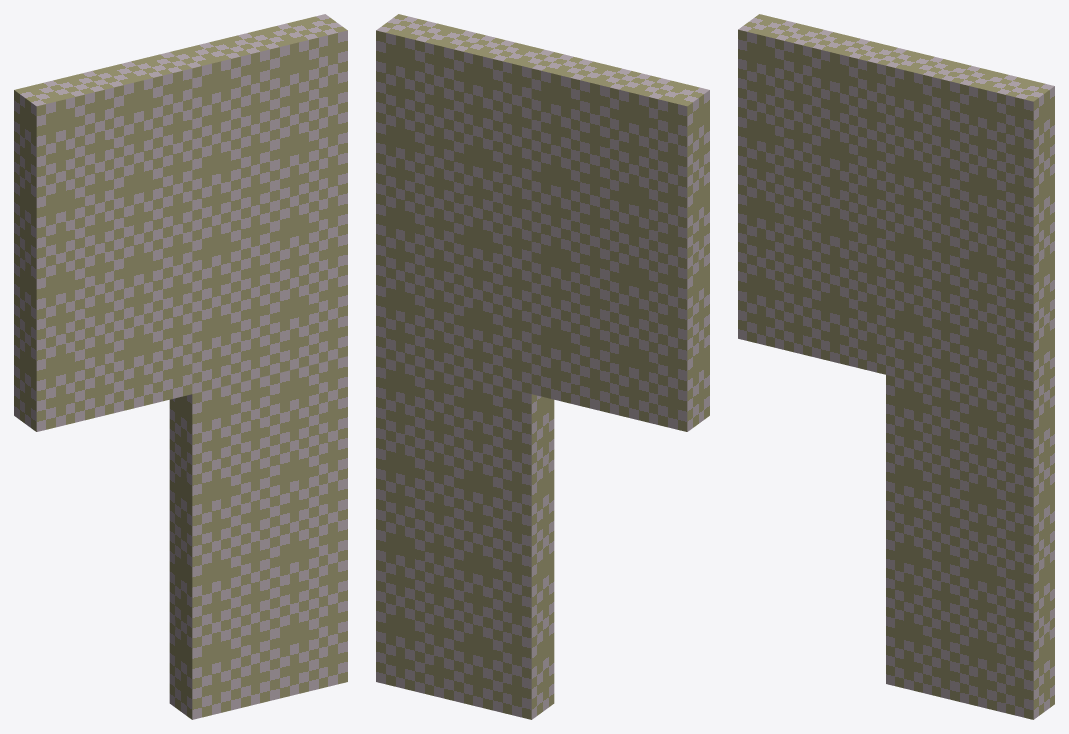
Rendered from wall_textured_a_2_doors_col.gltf.
3 renders of one model, left to right at view 1: azimuth 30°, elevation 25°; view 2: azimuth 150°, elevation 25°; view 3: azimuth 330°, elevation 25°, orthographic. The views are drawn at different scales.
Parts seen in each view (by area): view 1: wall_textured_a_2_doors_col; view 2: wall_textured_a_2_doors_col; view 3: wall_textured_a_2_doors_col.
Part boxes in pixels (x1,y1,x2,y2): wall_textured_a_2_doors_col: (14, 14, 347, 719); wall_textured_a_2_doors_col: (376, 14, 709, 719); wall_textured_a_2_doors_col: (738, 14, 1054, 719).
Size of the model in its own units: 2 by 4 by 0.25.
Materials: 1 (1 with a texture image).
